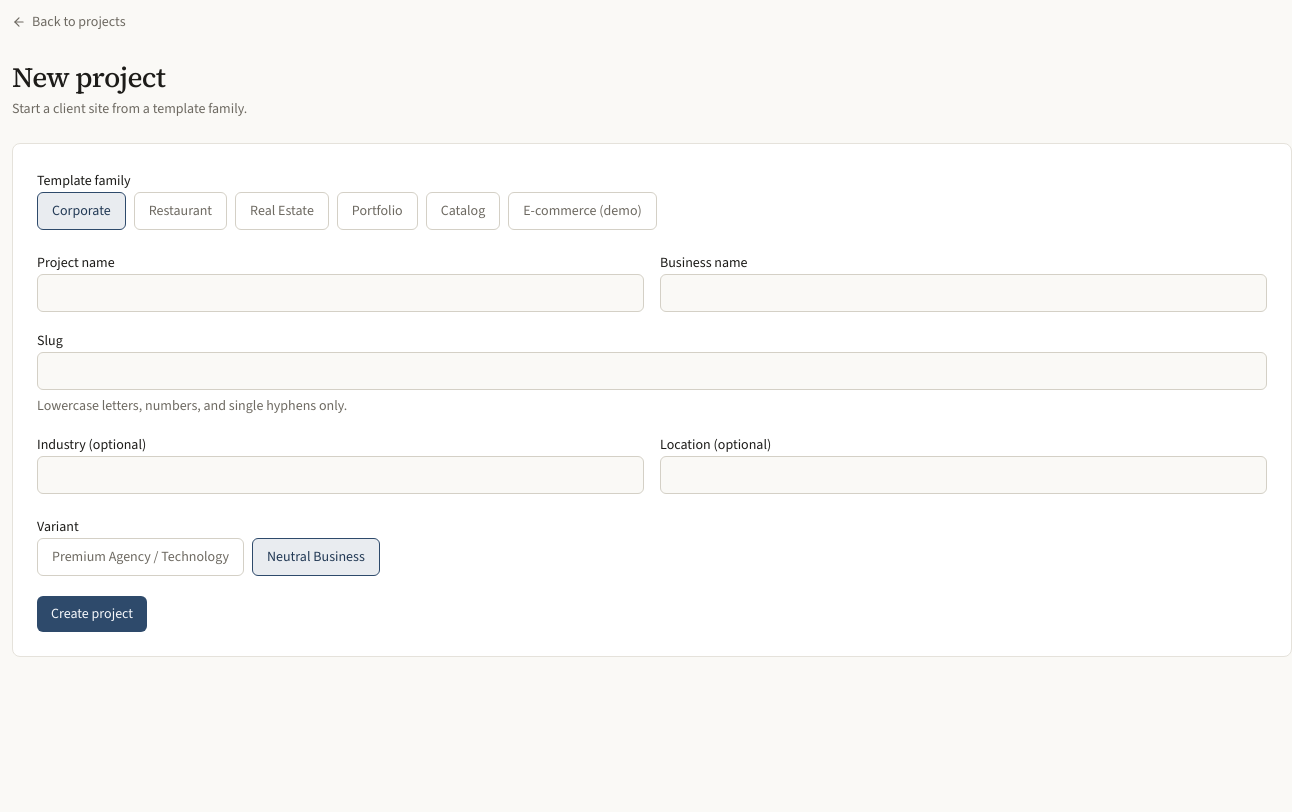
Test: CreateProjectPage › preserves form input and shows a conflict error on a duplicate slug
Type "Acme" into the field labelled "Project name". click: (340, 293)
box: x1=37 y1=274 x2=644 y2=312
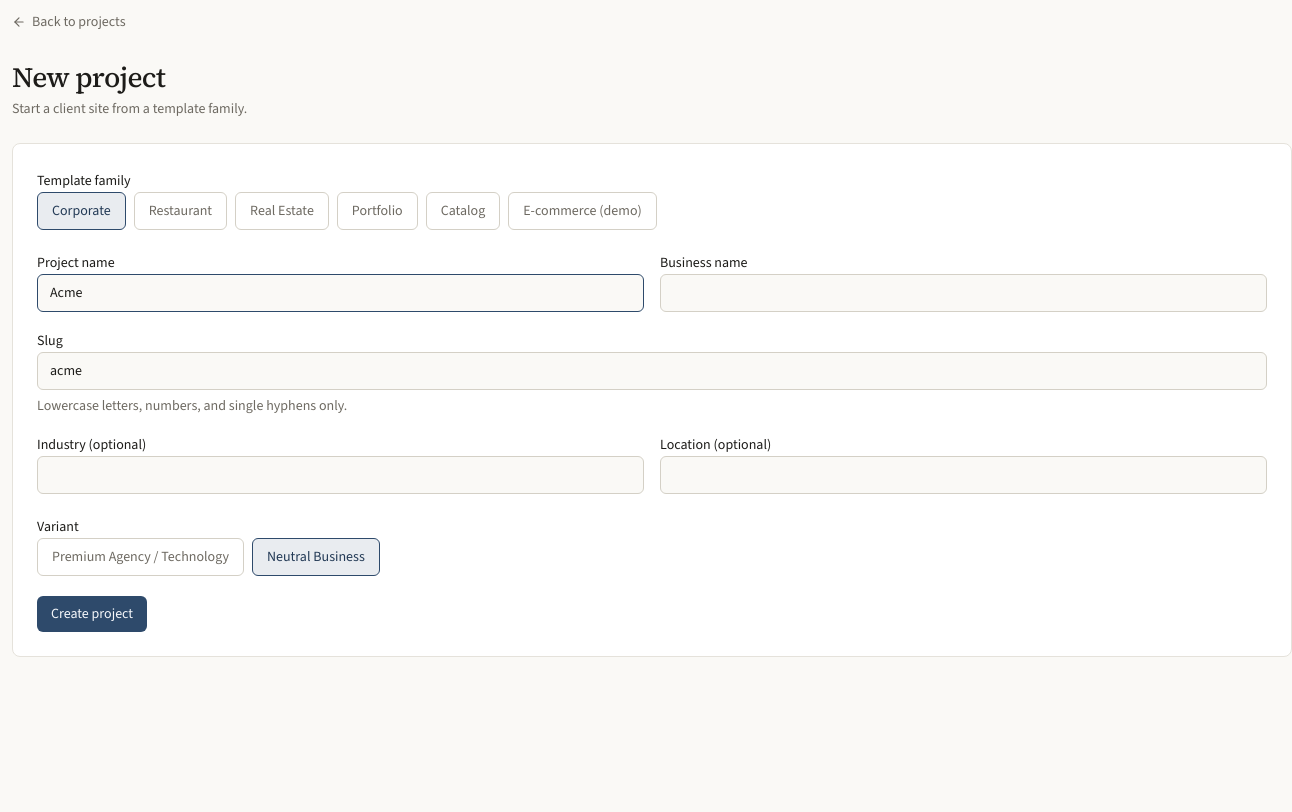
Click the button "Create project". click: (92, 614)
box: x1=37 y1=596 x2=147 y2=632
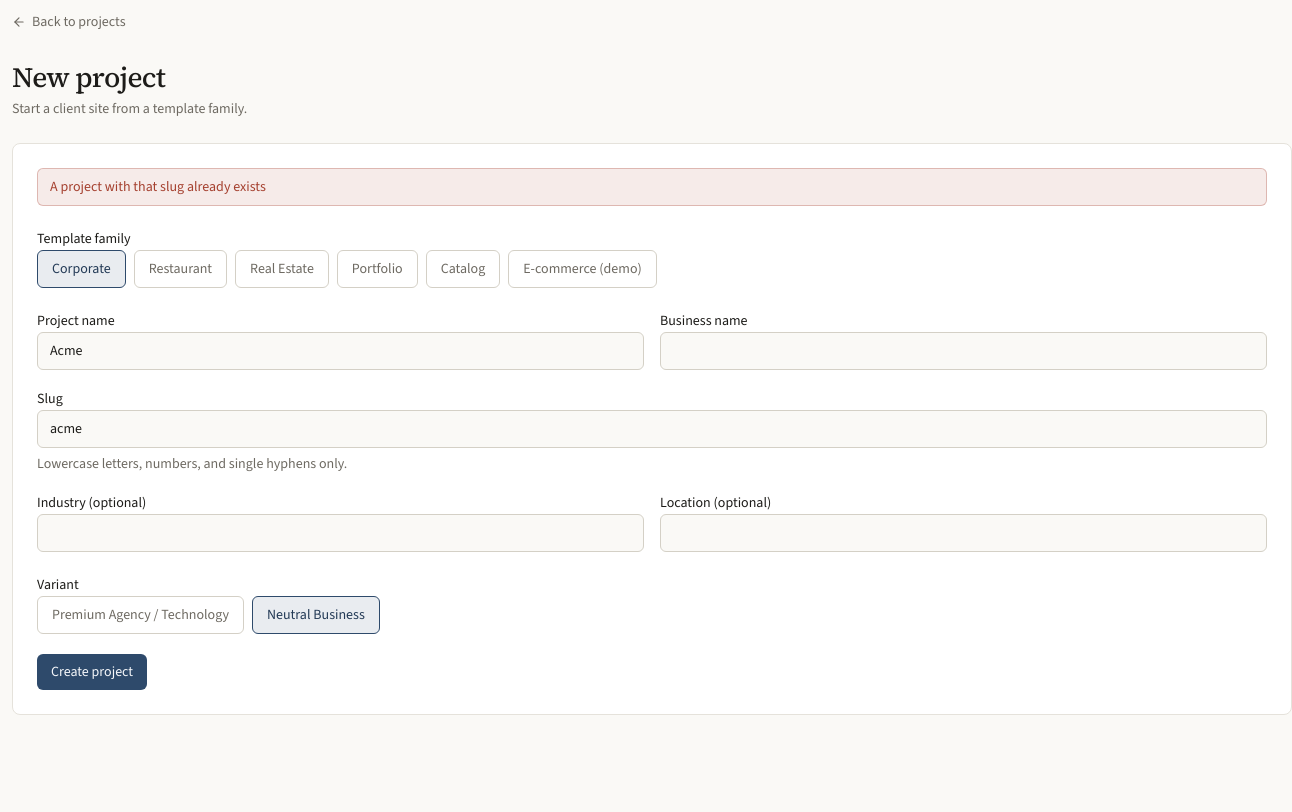
Result: the field labelled "Slug" holds "acme" at x1=37 y1=410 x2=1267 y2=448
Result: the message reads "A project with that slug already exists" at x1=50 y1=177 x2=266 y2=196
